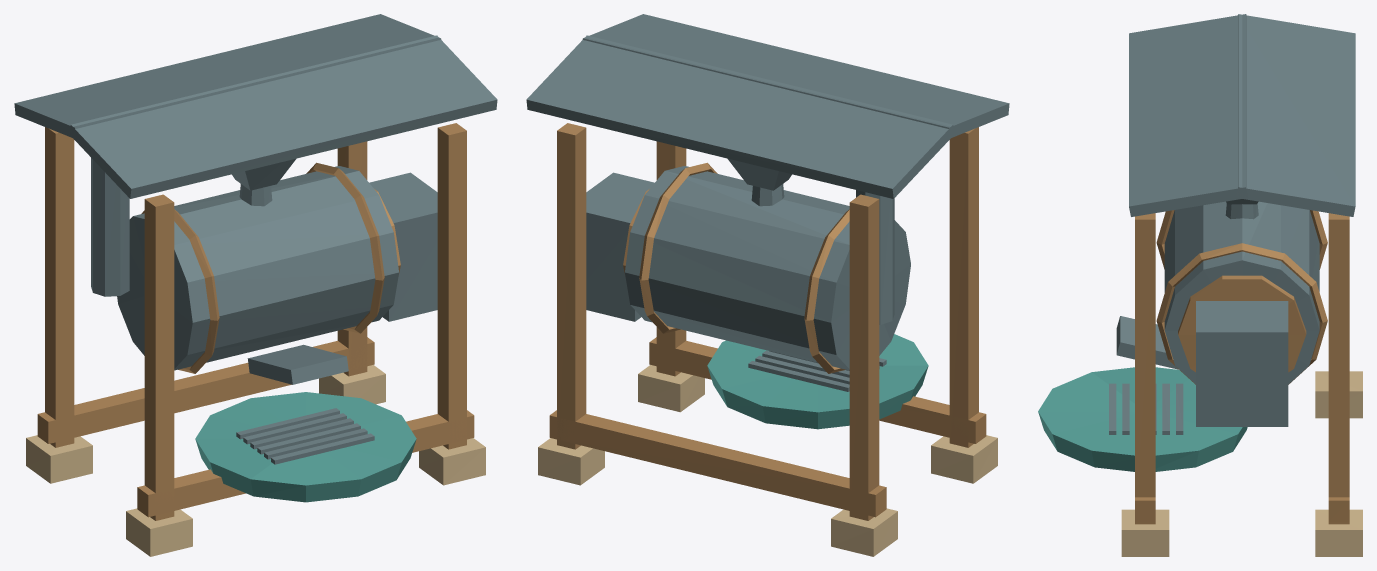
Rendered from Roastery.glb.
3 renders of one model, left to right at view 1: azimuth 30°, elevation 25°; view 2: azimuth 150°, elevation 25°; view 3: azimuth 270°, elevation 25°, orthographic. The views are drawn at different scales.
Parts seen in each view (by area): view 1: roastery-static-roastery-muted-galvanized-mat, roastery-static-roastery-dark-iron-mat, roastery-static-roastery-warm-timber-mat, roastery-static-roastery-blue-grey-tray-mat, roastery-static-roastery-warm-stone-mat, roastery-static-roastery-restrained-copper-mat; view 2: roastery-static-roastery-muted-galvanized-mat, roastery-static-roastery-dark-iron-mat, roastery-static-roastery-warm-timber-mat, roastery-static-roastery-blue-grey-tray-mat, roastery-static-roastery-warm-stone-mat, roastery-static-roastery-restrained-copper-mat; view 3: roastery-static-roastery-muted-galvanized-mat, roastery-static-roastery-dark-iron-mat, roastery-static-roastery-warm-timber-mat, roastery-static-roastery-blue-grey-tray-mat, roastery-static-roastery-restrained-copper-mat, roastery-static-roastery-warm-stone-mat.
Part boxes in pixels (x1,y1,x2,y2): roastery-static-roastery-muted-galvanized-mat: (14, 14, 497, 384); roastery-static-roastery-dark-iron-mat: (91, 158, 437, 464); roastery-static-roastery-warm-timber-mat: (37, 123, 474, 520); roastery-static-roastery-blue-grey-tray-mat: (195, 392, 416, 502); roastery-static-roastery-warm-stone-mat: (26, 365, 485, 556); roastery-static-roastery-restrained-copper-mat: (141, 162, 400, 373); roastery-static-roastery-muted-galvanized-mat: (526, 14, 1009, 198); roastery-static-roastery-dark-iron-mat: (586, 166, 910, 391); roastery-static-roastery-warm-timber-mat: (549, 123, 986, 520); roastery-static-roastery-blue-grey-tray-mat: (707, 334, 928, 429); roastery-static-roastery-warm-stone-mat: (538, 365, 997, 556); roastery-static-roastery-restrained-copper-mat: (623, 162, 849, 373); roastery-static-roastery-muted-galvanized-mat: (1116, 14, 1355, 369); roastery-static-roastery-dark-iron-mat: (1109, 201, 1319, 434); roastery-static-roastery-warm-timber-mat: (1135, 213, 1349, 524); roastery-static-roastery-blue-grey-tray-mat: (1038, 367, 1247, 471); roastery-static-roastery-restrained-copper-mat: (1156, 210, 1327, 384); roastery-static-roastery-warm-stone-mat: (1121, 371, 1362, 556).
Size of the model in its own units: 2.75 by 2.79 by 2.18.
